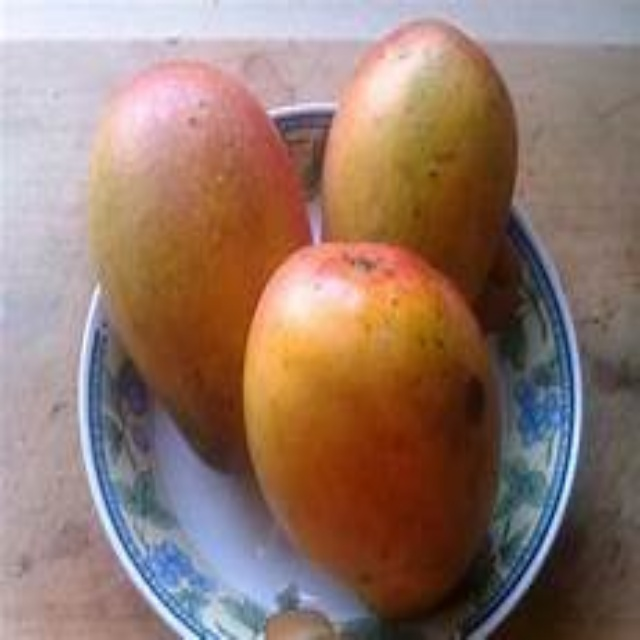mango: (88, 57, 311, 472), (244, 243, 497, 604), (327, 23, 517, 304)
